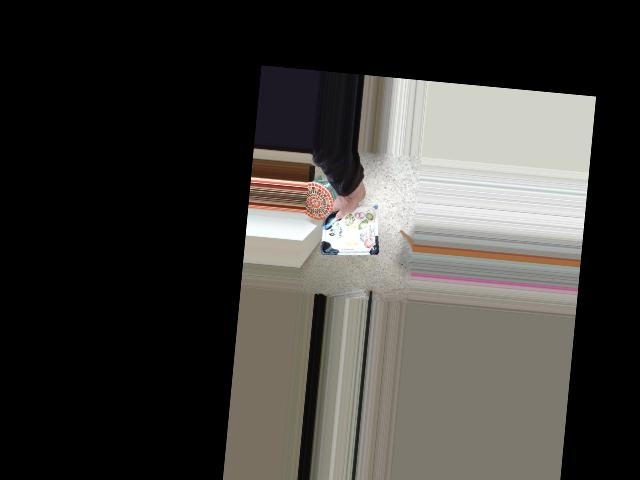cheese: (321, 183, 384, 247)
